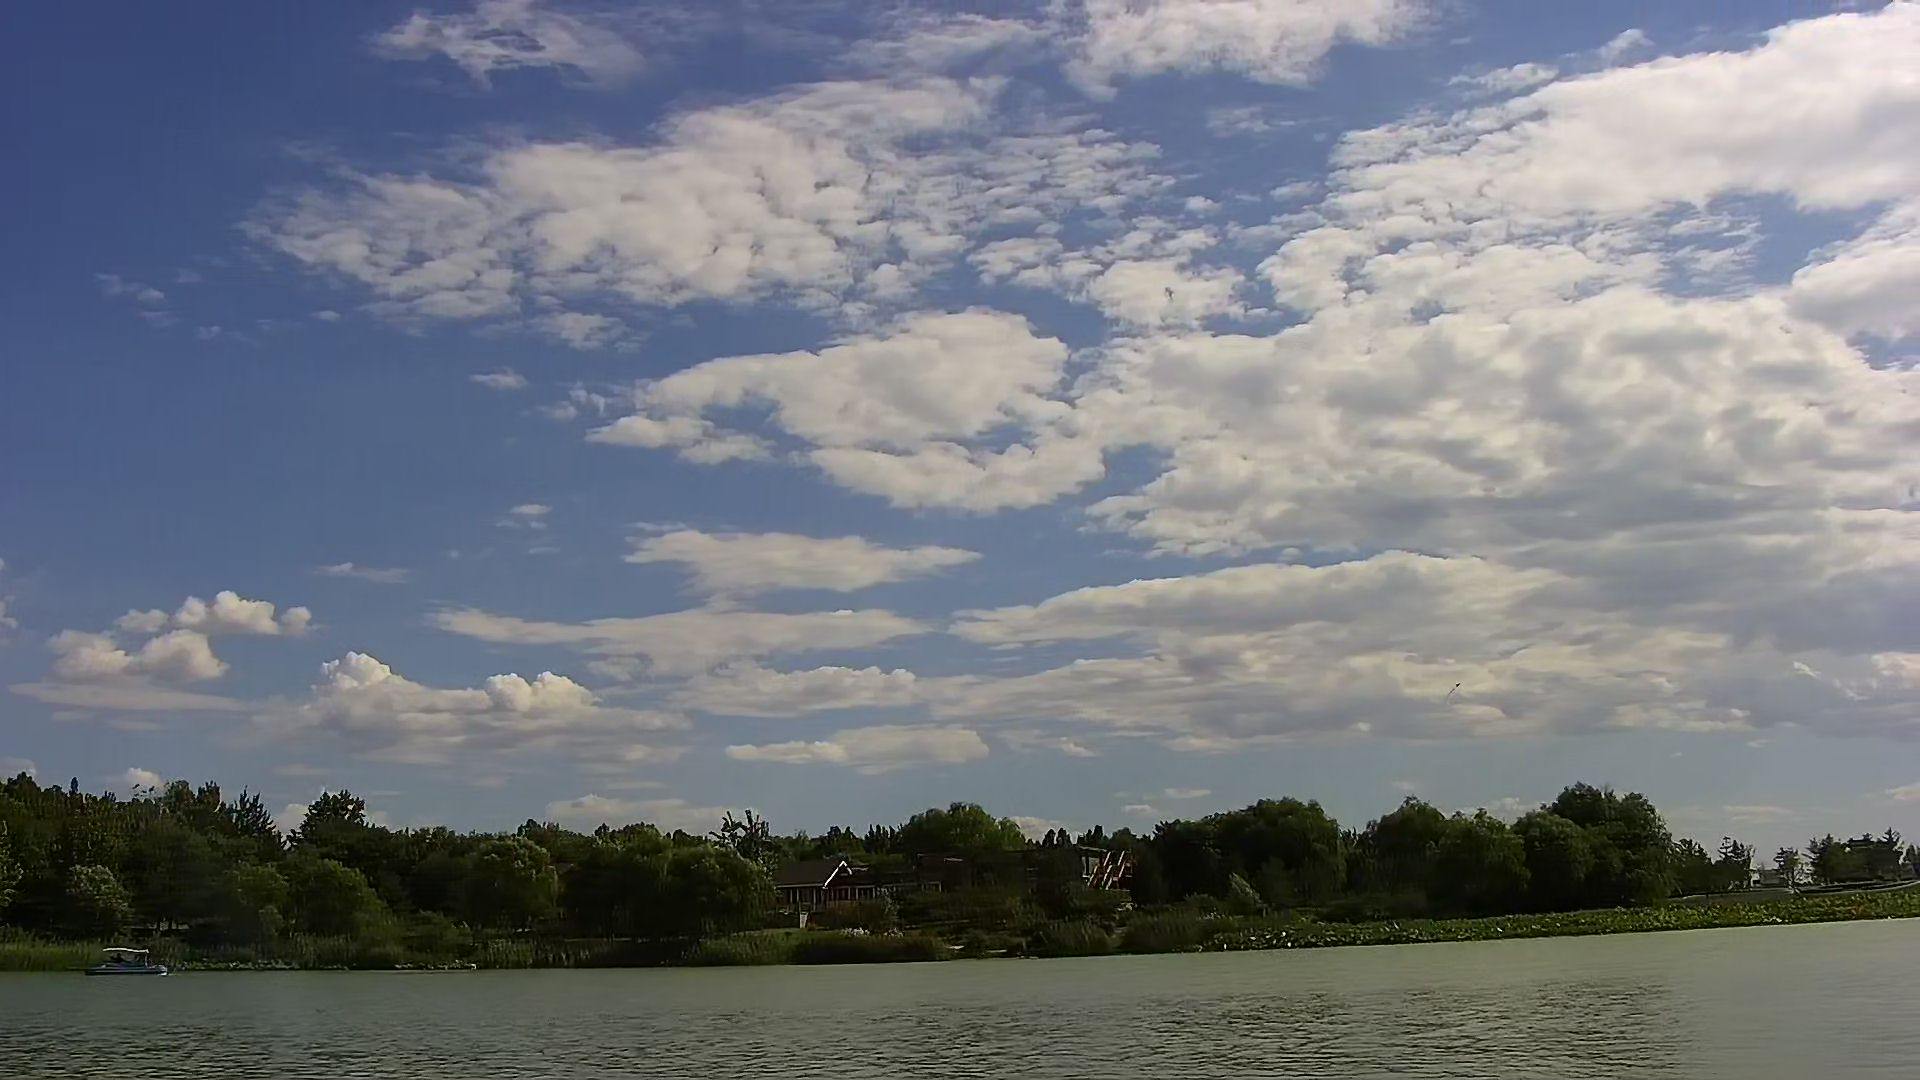boat: (76, 938, 173, 982)
